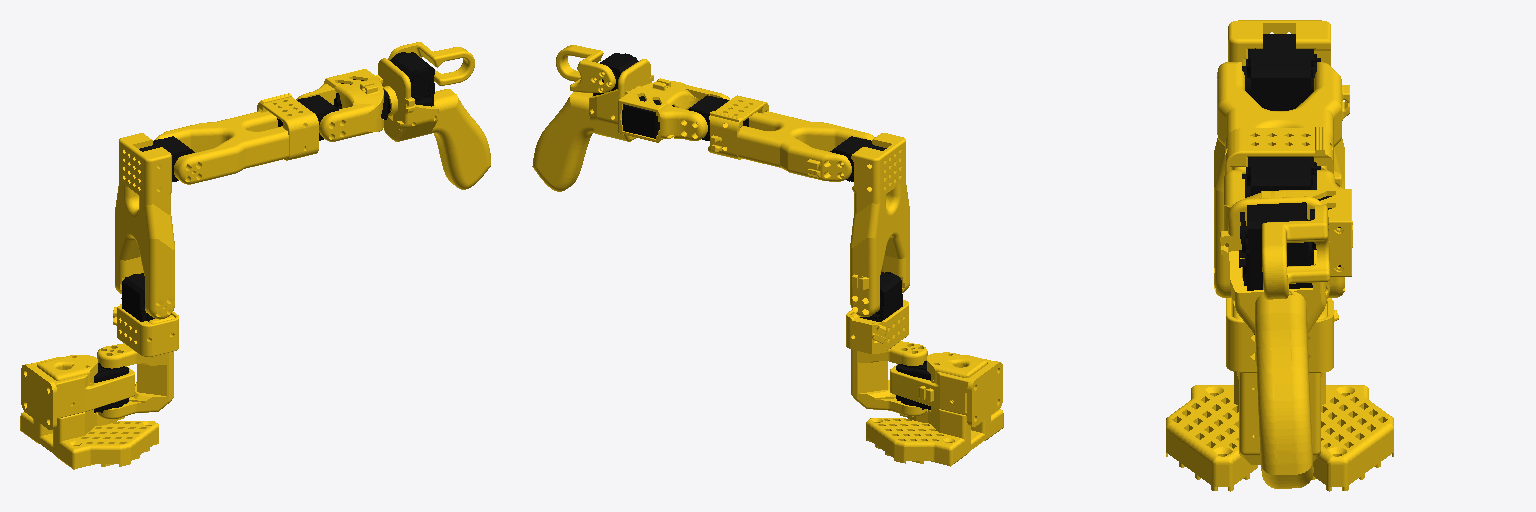
The robot description file, URDF, robot "so101_leader":
<?xml version="1.0" encoding="utf-8"?>
<!-- SO101 Leader Arm - based on so101_new_calib.urdf -->
<robot name="so101_leader">

  <!-- Materials -->
  <material name="3d_printed">
    <color rgba="1.0 0.82 0.12 1.0"/>
  </material>
  <material name="sts3215">
    <color rgba="0.1 0.1 0.1 1.0"/>
  </material>

  <!-- Link base -->
  <link name="base_link">
    <inertial>
      <origin xyz="0.0137179 -5.19711e-05 0.0334843" rpy="0 0 0"/>
      <mass value="0.147"/>
      <inertia ixx="0.000114686" ixy="-4.59787e-07" ixz="4.97151e-06" iyy="0.000136117" iyz="9.75275e-08" izz="0.000130364"/>
    </inertial>
    <!-- Part base_motor_holder_so101_v1 -->
    <visual>
      <origin xyz="-0.00636471 -9.94414e-05 -0.0024" rpy="1.5708 -1.67685e-15 1.5708"/>
      <geometry>
        <mesh filename="package://so101_description/meshes/base_motor_holder_so101_v1.stl"/>
      </geometry>
      <material name="3d_printed"/>
    </visual>
    <collision>
      <origin xyz="-0.00636471 -9.94414e-05 -0.0024" rpy="1.5708 -1.67685e-15 1.5708"/>
      <geometry>
        <mesh filename="package://so101_description/meshes/base_motor_holder_so101_v1.stl"/>
      </geometry>
    </collision>
    <!-- Part base_so101_v2 -->
    <visual>
      <origin xyz="-0.00636471 -8.97657e-09 -0.0024" rpy="1.5708 -2.78073e-29 1.5708"/>
      <geometry>
        <mesh filename="package://so101_description/meshes/base_so101_v2.stl"/>
      </geometry>
      <material name="3d_printed"/>
    </visual>
    <collision>
      <origin xyz="-0.00636471 -8.97657e-09 -0.0024" rpy="1.5708 -2.78073e-29 1.5708"/>
      <geometry>
        <mesh filename="package://so101_description/meshes/base_so101_v2.stl"/>
      </geometry>
    </collision>
    <!-- Part sts3215_03a_v1 -->
    <visual>
      <origin xyz="0.0263353 -8.97657e-09 0.0437" rpy="-8.21148e-16 7.84513e-18 1.249e-15"/>
      <geometry>
        <mesh filename="package://so101_description/meshes/sts3215_03a_v1.stl"/>
      </geometry>
      <material name="sts3215"/>
    </visual>
    <collision>
      <origin xyz="0.0263353 -8.97657e-09 0.0437" rpy="-8.21148e-16 7.84513e-18 1.249e-15"/>
      <geometry>
        <mesh filename="package://so101_description/meshes/sts3215_03a_v1.stl"/>
      </geometry>
    </collision>
    <!-- Part waveshare_mounting_plate_so101_v2 -->
    <visual>
      <origin xyz="-0.0309827 -0.000199441 0.0474" rpy="1.5708 -1.35493e-14 1.5708"/>
      <geometry>
        <mesh filename="package://so101_description/meshes/waveshare_mounting_plate_so101_v2.stl"/>
      </geometry>
      <material name="3d_printed"/>
    </visual>
    <collision>
      <origin xyz="-0.0309827 -0.000199441 0.0474" rpy="1.5708 -1.35493e-14 1.5708"/>
      <geometry>
        <mesh filename="package://so101_description/meshes/waveshare_mounting_plate_so101_v2.stl"/>
      </geometry>
    </collision>
  </link>

  <!-- Link shoulder -->
  <link name="shoulder_link">
    <inertial>
      <origin xyz="-0.0307604 -1.66727e-05 -0.0252713" rpy="0 0 0"/>
      <mass value="0.100006"/>
      <inertia ixx="8.3759e-05" ixy="7.55525e-08" ixz="-1.16342e-06" iyy="8.10403e-05" iyz="1.54663e-07" izz="2.39783e-05"/>
    </inertial>
    <!-- Part sts3215_03a_v1_2 -->
    <visual>
      <origin xyz="-0.0303992 0.000422241 -0.0417" rpy="1.5708 1.5708 0"/>
      <geometry>
        <mesh filename="package://so101_description/meshes/sts3215_03a_v1.stl"/>
      </geometry>
      <material name="sts3215"/>
    </visual>
    <collision>
      <origin xyz="-0.0303992 0.000422241 -0.0417" rpy="1.5708 1.5708 0"/>
      <geometry>
        <mesh filename="package://so101_description/meshes/sts3215_03a_v1.stl"/>
      </geometry>
    </collision>
    <!-- Part motor_holder_so101_base_v1 -->
    <visual>
      <origin xyz="-0.0675992 -0.000177759 0.0158499" rpy="1.5708 -1.5708 0"/>
      <geometry>
        <mesh filename="package://so101_description/meshes/motor_holder_so101_base_v1.stl"/>
      </geometry>
      <material name="3d_printed"/>
    </visual>
    <collision>
      <origin xyz="-0.0675992 -0.000177759 0.0158499" rpy="1.5708 -1.5708 0"/>
      <geometry>
        <mesh filename="package://so101_description/meshes/motor_holder_so101_base_v1.stl"/>
      </geometry>
    </collision>
    <!-- Part rotation_pitch_so101_v1 -->
    <visual>
      <origin xyz="0.0122008 2.22413e-05 0.0464" rpy="-1.5708 2.35221e-33 0"/>
      <geometry>
        <mesh filename="package://so101_description/meshes/rotation_pitch_so101_v1.stl"/>
      </geometry>
      <material name="3d_printed"/>
    </visual>
    <collision>
      <origin xyz="0.0122008 2.22413e-05 0.0464" rpy="-1.5708 2.35221e-33 0"/>
      <geometry>
        <mesh filename="package://so101_description/meshes/rotation_pitch_so101_v1.stl"/>
      </geometry>
    </collision>
  </link>

  <!-- Link upper_arm -->
  <link name="upper_arm_link">
    <inertial>
      <origin xyz="-0.0898471 -0.00838224 0.0184089" rpy="0 0 0"/>
      <mass value="0.103"/>
      <inertia ixx="4.08002e-05" ixy="-1.97819e-05" ixz="-4.03016e-08" iyy="0.000147318" iyz="8.97326e-09" izz="0.000142487"/>
    </inertial>
    <!-- Part sts3215_03a_v1_3 -->
    <visual>
      <origin xyz="-0.11257 -0.0155 0.0187" rpy="-3.14159 -5.27356e-16 -1.5708"/>
      <geometry>
        <mesh filename="package://so101_description/meshes/sts3215_03a_v1.stl"/>
      </geometry>
      <material name="sts3215"/>
    </visual>
    <collision>
      <origin xyz="-0.11257 -0.0155 0.0187" rpy="-3.14159 -5.27356e-16 -1.5708"/>
      <geometry>
        <mesh filename="package://so101_description/meshes/sts3215_03a_v1.stl"/>
      </geometry>
    </collision>
    <!-- Part upper_arm_so101_v1 -->
    <visual>
      <origin xyz="-0.065085 0.012 0.0182" rpy="3.14159 -0 -1.30911e-30"/>
      <geometry>
        <mesh filename="package://so101_description/meshes/upper_arm_so101_v1.stl"/>
      </geometry>
      <material name="3d_printed"/>
    </visual>
    <collision>
      <origin xyz="-0.065085 0.012 0.0182" rpy="3.14159 -0 -1.30911e-30"/>
      <geometry>
        <mesh filename="package://so101_description/meshes/upper_arm_so101_v1.stl"/>
      </geometry>
    </collision>
  </link>

  <!-- Link lower_arm -->
  <link name="lower_arm_link">
    <inertial>
      <origin xyz="-0.0980701 0.00324376 0.0182831" rpy="0 0 0"/>
      <mass value="0.104"/>
      <inertia ixx="2.87438e-05" ixy="7.41152e-06" ixz="1.26409e-06" iyy="0.000159844" iyz="-4.90188e-08" izz="0.00014529"/>
    </inertial>
    <!-- Part under_arm_so101_v1 -->
    <visual>
      <origin xyz="-0.0648499 -0.032 0.0182" rpy="3.14159 -0 6.67202e-31"/>
      <geometry>
        <mesh filename="package://so101_description/meshes/under_arm_so101_v1.stl"/>
      </geometry>
      <material name="3d_printed"/>
    </visual>
    <collision>
      <origin xyz="-0.0648499 -0.032 0.0182" rpy="3.14159 -0 6.67202e-31"/>
      <geometry>
        <mesh filename="package://so101_description/meshes/under_arm_so101_v1.stl"/>
      </geometry>
    </collision>
    <!-- Part motor_holder_so101_wrist_v1 -->
    <visual>
      <origin xyz="-0.0648499 -0.032 0.018" rpy="-3.14159 -2.55351e-15 -1.83387e-30"/>
      <geometry>
        <mesh filename="package://so101_description/meshes/motor_holder_so101_wrist_v1.stl"/>
      </geometry>
      <material name="3d_printed"/>
    </visual>
    <collision>
      <origin xyz="-0.0648499 -0.032 0.018" rpy="-3.14159 -2.55351e-15 -1.83387e-30"/>
      <geometry>
        <mesh filename="package://so101_description/meshes/motor_holder_so101_wrist_v1.stl"/>
      </geometry>
    </collision>
    <!-- Part sts3215_03a_v1_4 -->
    <visual>
      <origin xyz="-0.1224 0.0052 0.0187" rpy="-3.14159 -7.88861e-31 -3.14159"/>
      <geometry>
        <mesh filename="package://so101_description/meshes/sts3215_03a_v1.stl"/>
      </geometry>
      <material name="sts3215"/>
    </visual>
    <collision>
      <origin xyz="-0.1224 0.0052 0.0187" rpy="-3.14159 -7.88861e-31 -3.14159"/>
      <geometry>
        <mesh filename="package://so101_description/meshes/sts3215_03a_v1.stl"/>
      </geometry>
    </collision>
  </link>

  <!-- Link wrist -->
  <link name="wrist_link">
    <inertial>
      <origin xyz="-0.000103312 -0.0386143 0.0281156" rpy="0 0 0"/>
      <mass value="0.079"/>
      <inertia ixx="3.68263e-05" ixy="1.7893e-08" ixz="-5.28128e-08" iyy="2.5391e-05" iyz="3.6412e-06" izz="2.1e-05"/>
    </inertial>
    <!-- Part sts3215_03a_no_horn_v1 -->
    <visual>
      <origin xyz="8.32667e-17 -0.0424 0.0306" rpy="1.5708 1.5708 0"/>
      <geometry>
        <mesh filename="package://so101_description/meshes/sts3215_03a_no_horn_v1.stl"/>
      </geometry>
      <material name="sts3215"/>
    </visual>
    <collision>
      <origin xyz="8.32667e-17 -0.0424 0.0306" rpy="1.5708 1.5708 0"/>
      <geometry>
        <mesh filename="package://so101_description/meshes/sts3215_03a_no_horn_v1.stl"/>
      </geometry>
    </collision>
    <!-- Part wrist_roll_pitch_so101_v2 -->
    <visual>
      <origin xyz="0 -0.028 0.0181" rpy="-1.5708 -1.5708 0"/>
      <geometry>
        <mesh filename="package://so101_description/meshes/wrist_roll_pitch_so101_v2.stl"/>
      </geometry>
      <material name="3d_printed"/>
    </visual>
    <collision>
      <origin xyz="0 -0.028 0.0181" rpy="-1.5708 -1.5708 0"/>
      <geometry>
        <mesh filename="package://so101_description/meshes/wrist_roll_pitch_so101_v2.stl"/>
      </geometry>
    </collision>
  </link>

  <!-- Link gripper -->
  <link name="gripper_link">
    <inertial>
      <origin xyz="0.000213627 0.000245138 -0.025187" rpy="0 0 0"/>
      <mass value="0.087"/>
      <inertia ixx="2.75087e-05" ixy="-3.35241e-07" ixz="-5.7352e-06" iyy="4.33657e-05" iyz="-5.17847e-08" izz="3.45059e-05"/>
    </inertial>
    <!-- Part sts3215_03a_v1_5 -->
    <visual>
      <origin xyz="0.0077 0.0001 -0.0234" rpy="-1.5708 -5.19179e-17 -1.66533e-16"/>
      <geometry>
        <mesh filename="package://so101_description/meshes/sts3215_03a_v1.stl"/>
      </geometry>
      <material name="sts3215"/>
    </visual>
    <collision>
      <origin xyz="0.0077 0.0001 -0.0234" rpy="-1.5708 -5.19179e-17 -1.66533e-16"/>
      <geometry>
        <mesh filename="package://so101_description/meshes/sts3215_03a_v1.stl"/>
      </geometry>
    </collision>
    <!-- Part wrist_roll_so101_v1 -->
    <visual>
      <origin xyz="8.32667e-17 -0.000218214 0.000949706" rpy="-3.14159 -5.55112e-17 0"/>
      <geometry>
        <mesh filename="package://so101_description/meshes/wrist_roll_so101_v1.stl"/>
      </geometry>
      <material name="3d_printed"/>
    </visual>
    <collision>
      <origin xyz="8.32667e-17 -0.000218214 0.000949706" rpy="-3.14159 -5.55112e-17 0"/>
      <geometry>
        <mesh filename="package://so101_description/meshes/wrist_roll_so101_v1.stl"/>
      </geometry>
    </collision>
    <!-- Part handle_so101_v1 -->
    <visual>
      <origin xyz="8.32667e-17 -0.000218214 0.000949706" rpy="-3.14159 -5.55112e-17 0"/>
      <geometry>
        <mesh filename="package://so101_description/meshes/handle_so101_v1.stl"/>
      </geometry>
      <material name="3d_printed"/>
    </visual>
    <collision>
      <origin xyz="8.32667e-17 -0.000218214 0.000949706" rpy="-3.14159 -5.55112e-17 0"/>
      <geometry>
        <mesh filename="package://so101_description/meshes/handle_so101_v1.stl"/>
      </geometry>
    </collision>
  </link>

  <!-- Gripper frame (dummy link + fixed joint) -->
  <link name="gripper_frame_link">
    <origin xyz="0 0 0" rpy="0 -0 0"/>
    <inertial>
      <origin xyz="0 0 0" rpy="0 0 0"/>
      <mass value="1e-9"/>
      <inertia ixx="0" ixy="0" ixz="0" iyy="0" iyz="0" izz="0"/>
    </inertial>
  </link>

  <joint name="gripper_frame_joint" type="fixed">
    <origin xyz="-0.0079 -0.000218121 -0.0981274" rpy="0 3.14159 0"/>
    <parent link="gripper_link"/>
    <child link="gripper_frame_link"/>
    <axis xyz="0 0 0"/>
  </joint>

  <!-- Link trigger_so101_v1 -->
  <link name="trigger_so101_v1_link">
    <inertial>
      <origin xyz="-0.00157495 -0.0300244 0.0192755" rpy="0 0 0"/>
      <mass value="0.012"/>
      <inertia ixx="6.61427e-06" ixy="-3.19807e-07" ixz="-5.90717e-09" iyy="1.89032e-06" iyz="-1.09945e-07" izz="5.28738e-06"/>
    </inertial>
    <!-- Part trigger_so101_v1 -->
    <visual>
      <origin xyz="-5.55112e-17 -5.55112e-17 0.0" rpy="9.53145e-17 3.14159 -0.5"/>
      <geometry>
        <mesh filename="package://so101_description/meshes/trigger_so101_v1.stl"/>
      </geometry>
      <material name="3d_printed"/>
    </visual>
    <collision>
      <origin xyz="-5.55112e-17 -5.55112e-17 0.0" rpy="9.53145e-17 3.14159 -0.5"/>
      <geometry>
        <mesh filename="package://so101_description/meshes/trigger_so101_v1.stl"/>
      </geometry>
    </collision>
  </link>

  <!-- Joint from gripper to trigger (revolute - user squeezes trigger) -->
  <joint name="gripper" type="revolute">
    <origin xyz="0.0202 0.0188 -0.0234" rpy="1.5708 -5.24284e-08 -1.41553e-15"/>
    <parent link="gripper_link"/>
    <child link="trigger_so101_v1_link"/>
    <axis xyz="0 0 1"/>
    <limit effort="10" velocity="10" lower="-0.174533" upper="1.74533"/>
  </joint>

  <!-- Joint from wrist to gripper -->
  <joint name="wrist_roll" type="revolute">
    <origin xyz="5.55112e-17 -0.0611 0.0181" rpy="1.5708 0.0486795 3.14159"/>
    <parent link="wrist_link"/>
    <child link="gripper_link"/>
    <axis xyz="0 0 1"/>
    <limit effort="10" velocity="10" lower="-2.74385" upper="2.84121"/>
  </joint>

  <transmission name="wrist_roll_trans">
    <type>transmission_interface/SimpleTransmission</type>
    <joint name="wrist_roll">
      <hardwareInterface>hardware_interface/PositionJointInterface</hardwareInterface>
    </joint>
    <actuator name="motor5">
      <hardwareInterface>hardware_interface/PositionJointInterface</hardwareInterface>
      <mechanicalReduction>1</mechanicalReduction>
    </actuator>
  </transmission>

  <!-- Joint from lower_arm to wrist -->
  <joint name="wrist_flex" type="revolute">
    <origin xyz="-0.1349 0.0052 3.62355e-17" rpy="4.02456e-15 8.67362e-16 -1.5708"/>
    <parent link="lower_arm_link"/>
    <child link="wrist_link"/>
    <axis xyz="0 0 1"/>
    <limit effort="10" velocity="10" lower="-1.65806" upper="1.65806"/>
  </joint>

  <transmission name="wrist_flex_trans">
    <type>transmission_interface/SimpleTransmission</type>
    <joint name="wrist_flex">
      <hardwareInterface>hardware_interface/PositionJointInterface</hardwareInterface>
    </joint>
    <actuator name="motor4">
      <hardwareInterface>hardware_interface/PositionJointInterface</hardwareInterface>
      <mechanicalReduction>1</mechanicalReduction>
    </actuator>
  </transmission>

  <!-- Joint from upper_arm to lower_arm -->
  <!-- Note: 5-degree calibration offset applied to joint limits -->
  <joint name="elbow_flex" type="revolute">
    <origin xyz="-0.11257 -0.028 1.73763e-16" rpy="-3.63608e-16 8.74301e-16 1.5708"/>
    <parent link="upper_arm_link"/>
    <child link="lower_arm_link"/>
    <axis xyz="0 0 1"/>
    <limit effort="10" velocity="10" lower="-1.69" upper="1.69"/>
  </joint>

  <transmission name="elbow_flex_trans">
    <type>transmission_interface/SimpleTransmission</type>
    <joint name="elbow_flex">
      <hardwareInterface>hardware_interface/PositionJointInterface</hardwareInterface>
    </joint>
    <actuator name="motor3">
      <hardwareInterface>hardware_interface/PositionJointInterface</hardwareInterface>
      <mechanicalReduction>1</mechanicalReduction>
    </actuator>
  </transmission>

  <!-- Joint from shoulder to upper_arm -->
  <joint name="shoulder_lift" type="revolute">
    <origin xyz="-0.0303992 -0.0182778 -0.0542" rpy="-1.5708 -1.5708 0"/>
    <parent link="shoulder_link"/>
    <child link="upper_arm_link"/>
    <axis xyz="0 0 1"/>
    <limit effort="10" velocity="10" lower="-1.74533" upper="1.74533"/>
  </joint>

  <transmission name="shoulder_lift_trans">
    <type>transmission_interface/SimpleTransmission</type>
    <joint name="shoulder_lift">
      <hardwareInterface>hardware_interface/PositionJointInterface</hardwareInterface>
    </joint>
    <actuator name="motor2">
      <hardwareInterface>hardware_interface/PositionJointInterface</hardwareInterface>
      <mechanicalReduction>1</mechanicalReduction>
    </actuator>
  </transmission>

  <!-- Joint from base to shoulder -->
  <joint name="shoulder_pan" type="revolute">
    <origin xyz="0.0388353 -8.97657e-09 0.0624" rpy="3.14159 4.18253e-17 -3.14159"/>
    <parent link="base_link"/>
    <child link="shoulder_link"/>
    <axis xyz="0 0 1"/>
    <limit effort="10" velocity="10" lower="-1.91986" upper="1.91986"/>
  </joint>

  <transmission name="shoulder_pan_trans">
    <type>transmission_interface/SimpleTransmission</type>
    <joint name="shoulder_pan">
      <hardwareInterface>hardware_interface/PositionJointInterface</hardwareInterface>
    </joint>
    <actuator name="motor1">
      <hardwareInterface>hardware_interface/PositionJointInterface</hardwareInterface>
      <mechanicalReduction>1</mechanicalReduction>
    </actuator>
  </transmission> 

</robot>

--- Facts derived from the render (not from the file) ---
The picture shows the robot from 3 angles, left to right: view 1: azimuth 30°, elevation 25°; view 2: azimuth 150°, elevation 25°; view 3: azimuth 270°, elevation 25°; orthographic projection.
Model so101_leader with 8 links and 7 joints (6 revolute, 1 fixed), rooted at base_link, posed every joint at zero.
Links seen in each view (by area): view 1: base_link, upper_arm_link, lower_arm_link, gripper_link, shoulder_link, wrist_link, trigger_so101_v1_link; view 2: base_link, upper_arm_link, lower_arm_link, gripper_link, shoulder_link, wrist_link, trigger_so101_v1_link; view 3: gripper_link, base_link, lower_arm_link, upper_arm_link, shoulder_link, trigger_so101_v1_link, wrist_link.
Boxes of the visible links, x1,y1,x2,y2 form: base_link: (20,355,158,469); upper_arm_link: (115,133,194,319); lower_arm_link: (155,93,338,184); gripper_link: (378,52,490,189); shoulder_link: (97,273,178,418); wrist_link: (296,69,390,141); trigger_so101_v1_link: (388,42,474,85); base_link: (866,352,1003,466); upper_arm_link: (830,133,909,316); lower_arm_link: (688,95,874,181); gripper_link: (532,53,653,191); shoulder_link: (846,272,927,416); wrist_link: (618,78,729,142); trigger_so101_v1_link: (556,45,615,92); gripper_link: (1220,196,1329,488); base_link: (1166,372,1393,491); lower_arm_link: (1217,62,1349,197); upper_arm_link: (1214,20,1352,297); shoulder_link: (1226,298,1338,464); trigger_so101_v1_link: (1262,205,1329,299); wrist_link: (1224,170,1351,276).
Bounding box of the posed robot: 0.42 × 0.1109 × 0.2711 m (x, y, z).
Meshes: 14 distinct files referenced, 18 mesh visuals loaded (14 binary STL).